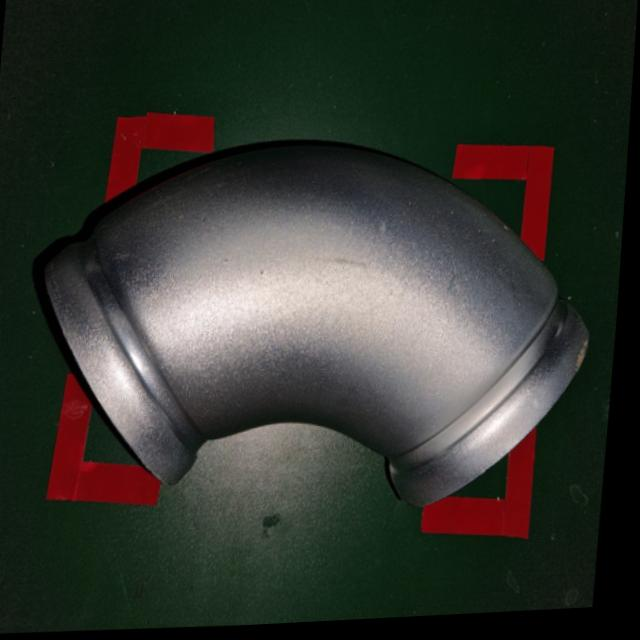Normal: (13, 110, 618, 550)
